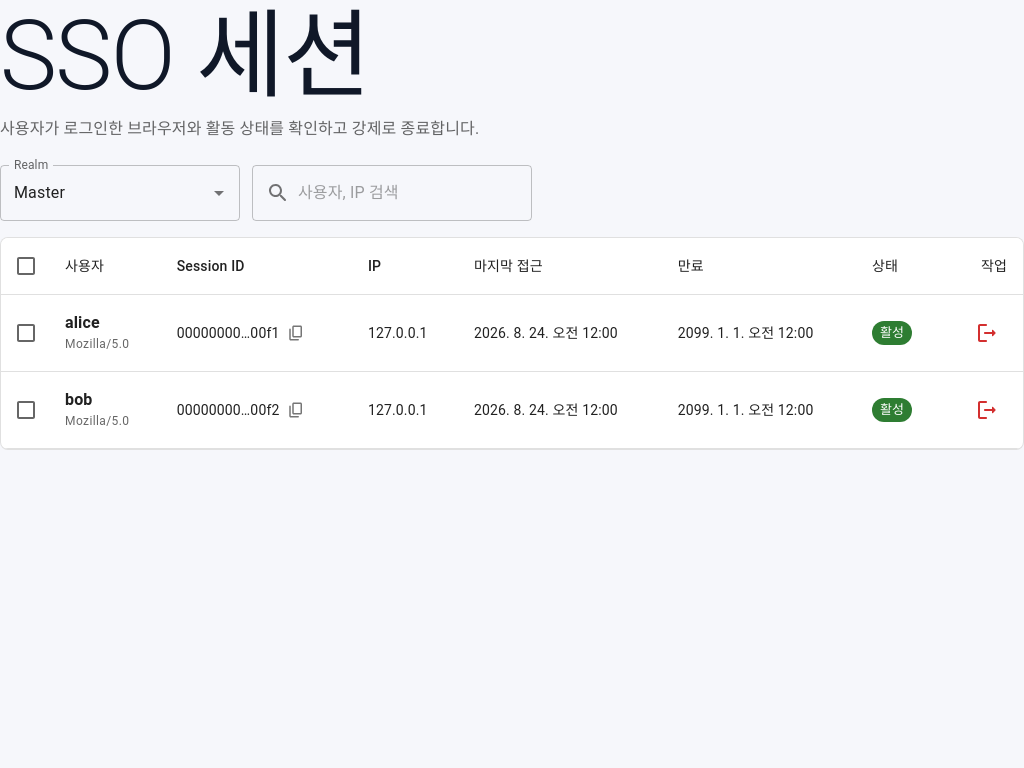
Test: 확인 대화 상자가 범위를 화면에 보이는 것으로 한정해 말한다
This screenshot has width=1024, height=768.
Expected: the text "alice" is shown, [65,313,100,332]
Click the checkbox named "표시된 활성 세션 모두 선택" at (26, 266), box [14,254,38,278]
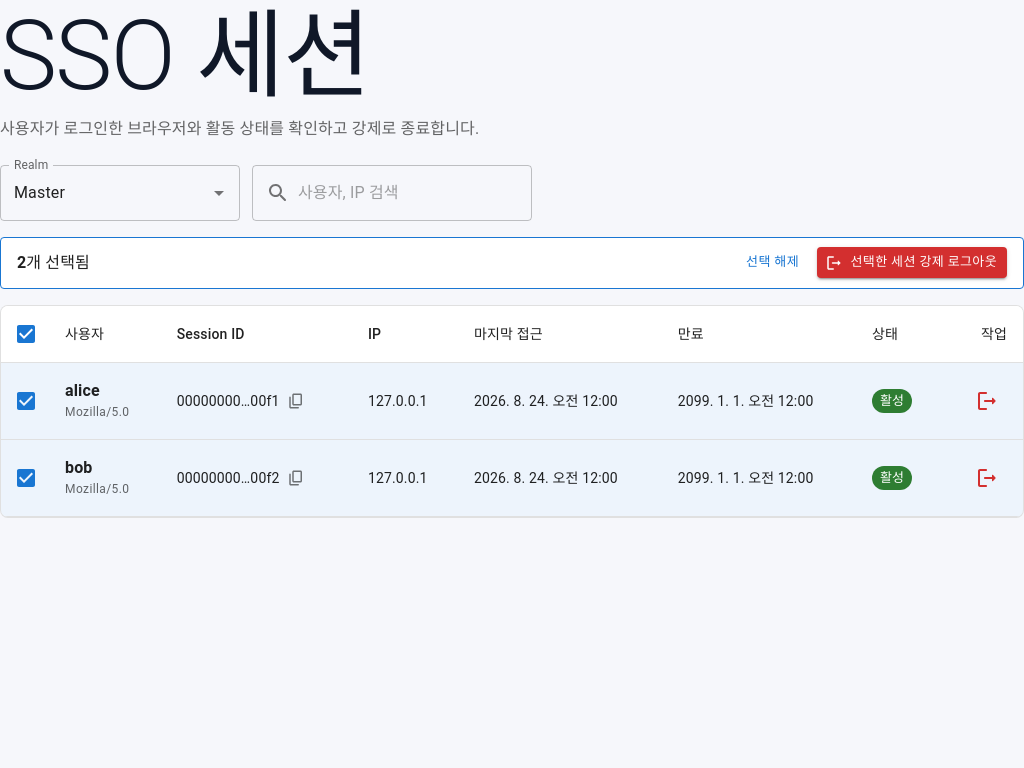
Click the button "선택한 세션 강제 로그아웃" at (912, 263), box [816,247,1007,278]
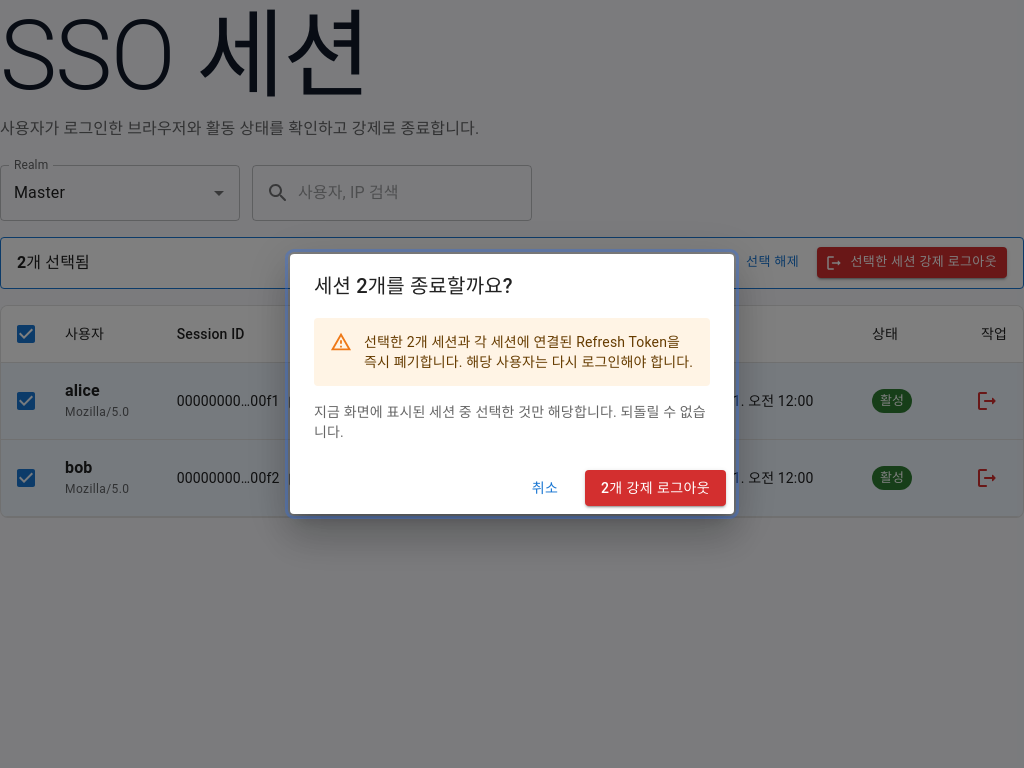
Result: the text "지금 화면에 표시된 세션 중 선택한 것만 해당합니다. 되돌릴 수 없습니다." is shown at [314,402,710,442]
